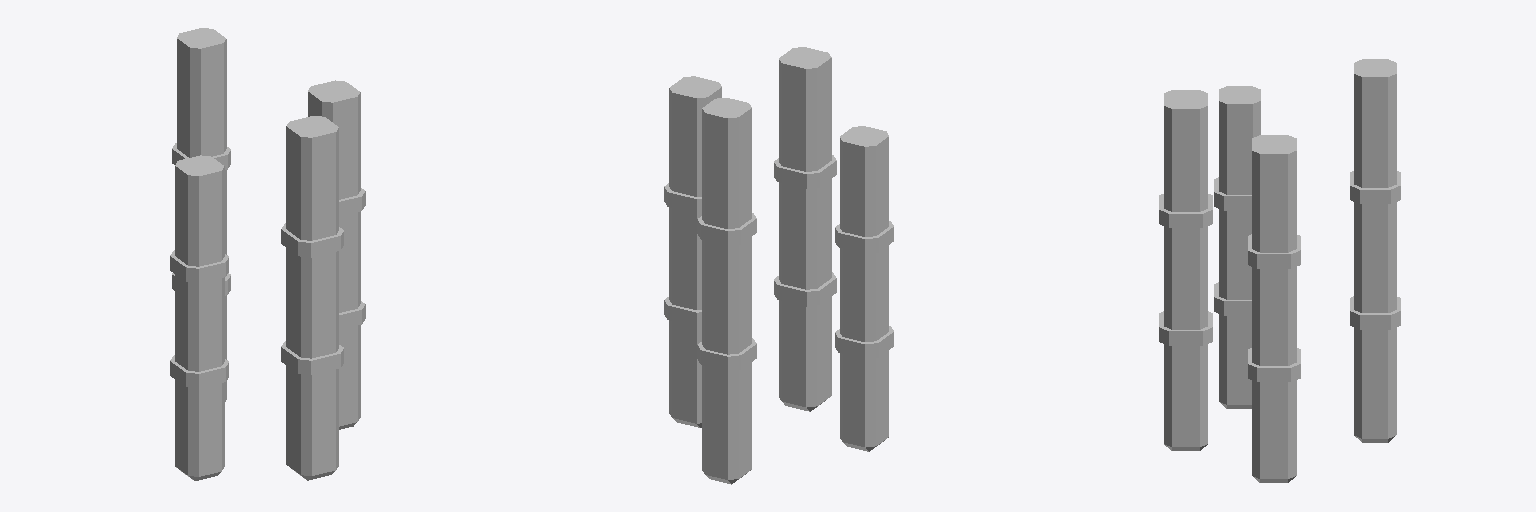
The model's file is Bamboo_Mid.obj.
3 renders of one model, left to right at view 1: azimuth 30°, elevation 25°; view 2: azimuth 150°, elevation 25°; view 3: azimuth 270°, elevation 25°, orthographic.
Parts seen in each view (by area): view 1: Bamboo_Mid_Cube.608; view 2: Bamboo_Mid_Cube.608; view 3: Bamboo_Mid_Cube.608.
Part boxes in pixels (x1,y1,x2,y2): Bamboo_Mid_Cube.608: (170, 28, 365, 480); Bamboo_Mid_Cube.608: (664, 47, 893, 484); Bamboo_Mid_Cube.608: (1159, 59, 1400, 482).
Bounding box in the file's own units: 1.46 × 2.61 × 1.55.